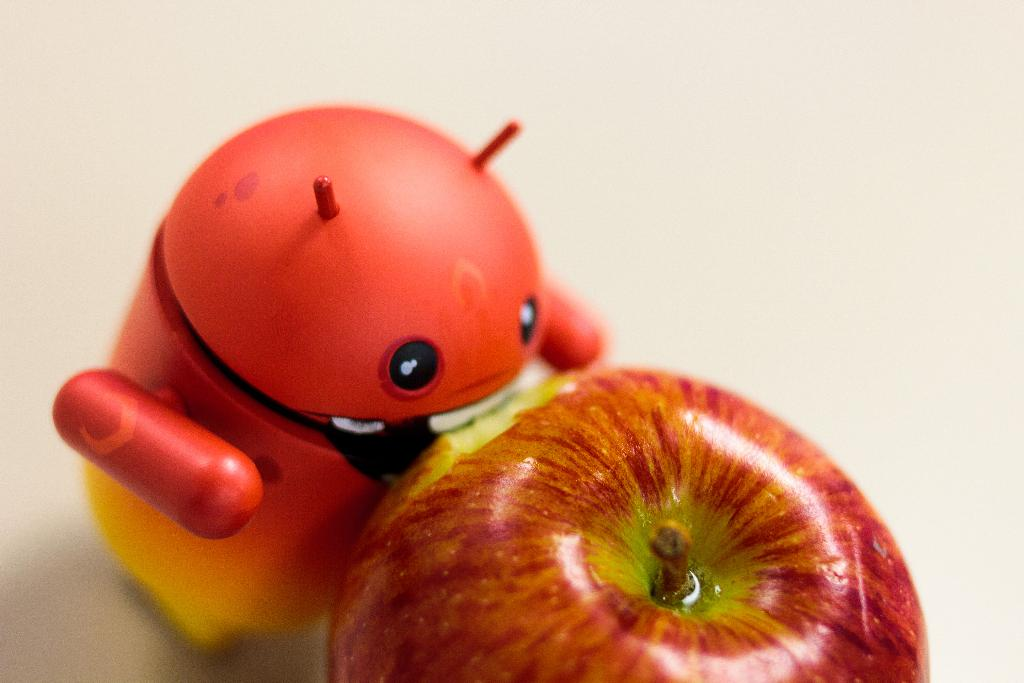Apple: (323, 359, 916, 683)
